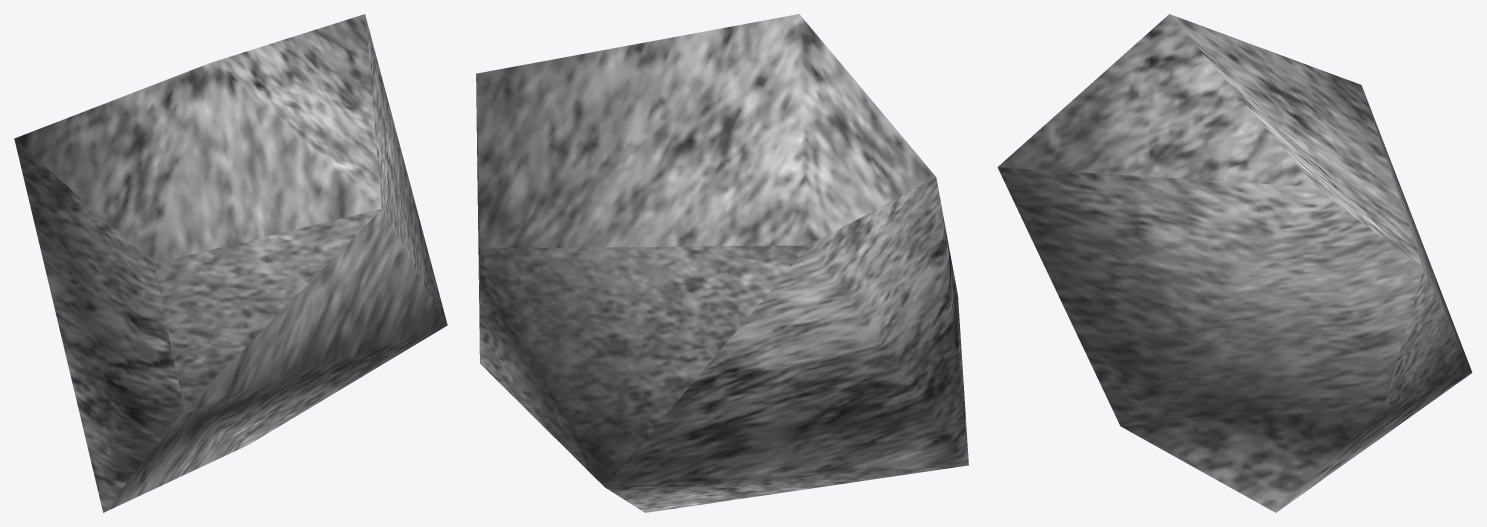
The model's file is GeoSphere010.FBX.
The picture shows the model from 3 angles, left to right: view 1: azimuth 30°, elevation 25°; view 2: azimuth 150°, elevation 25°; view 3: azimuth 270°, elevation 25°; orthographic projection. The views are drawn at different scales.
Parts seen in each view (by area): view 1: GeoSphere010; view 2: GeoSphere010; view 3: GeoSphere010.
Boxes of the visible parts, x1,y1,x2,y2 form: GeoSphere010: [14, 14, 447, 512]; GeoSphere010: [476, 14, 968, 512]; GeoSphere010: [997, 14, 1472, 512].
Size of the model in its own units: 6.2 by 7.33 by 6.95.
